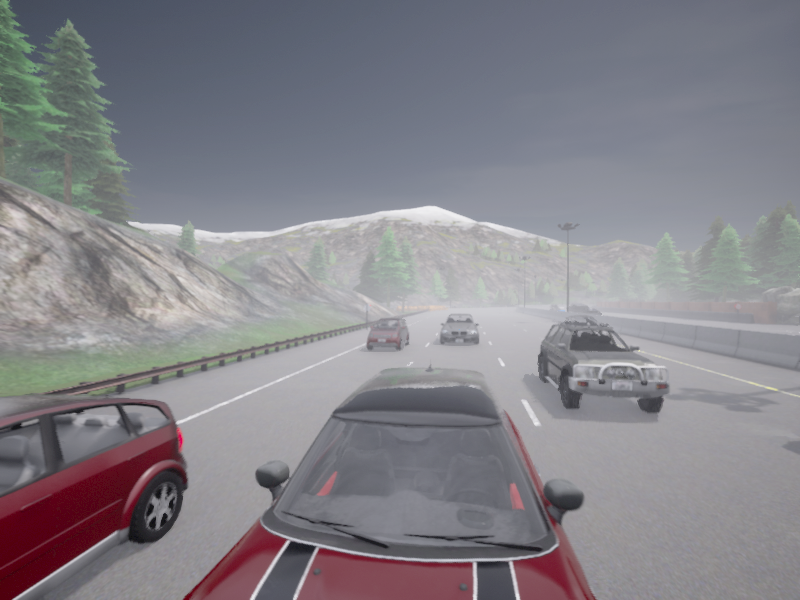vehicle: (182, 359, 596, 599), (0, 394, 188, 599), (537, 321, 669, 412), (367, 318, 409, 351), (440, 313, 479, 345), (564, 315, 602, 323), (569, 303, 587, 312), (579, 308, 600, 314), (549, 304, 558, 310), (556, 307, 564, 310)
